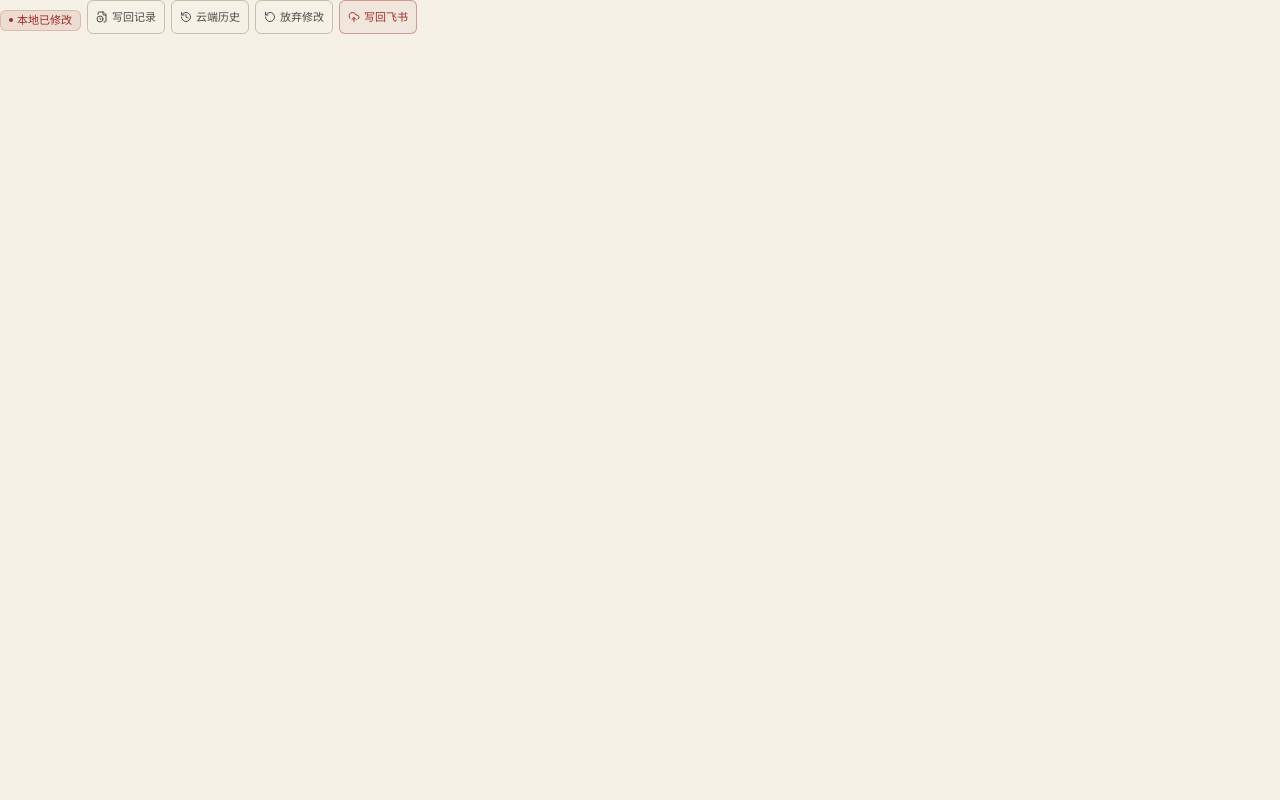
Test: T4b-08 组件挂载点击链：对比云端与本地（真实 fetch 请求 + 回填渲染） › 点击链触发不带 revisionId 的 history-content 请求，弹窗回填云端/本地两侧行级差异
This screenshot has width=1280, height=800.
# 点击「写回飞书」→ 真实 POST push/preview → 计划 blocked（锚点不可读）
Click the button "写回飞书".
click(378, 17)  # box [339,0,417,34]
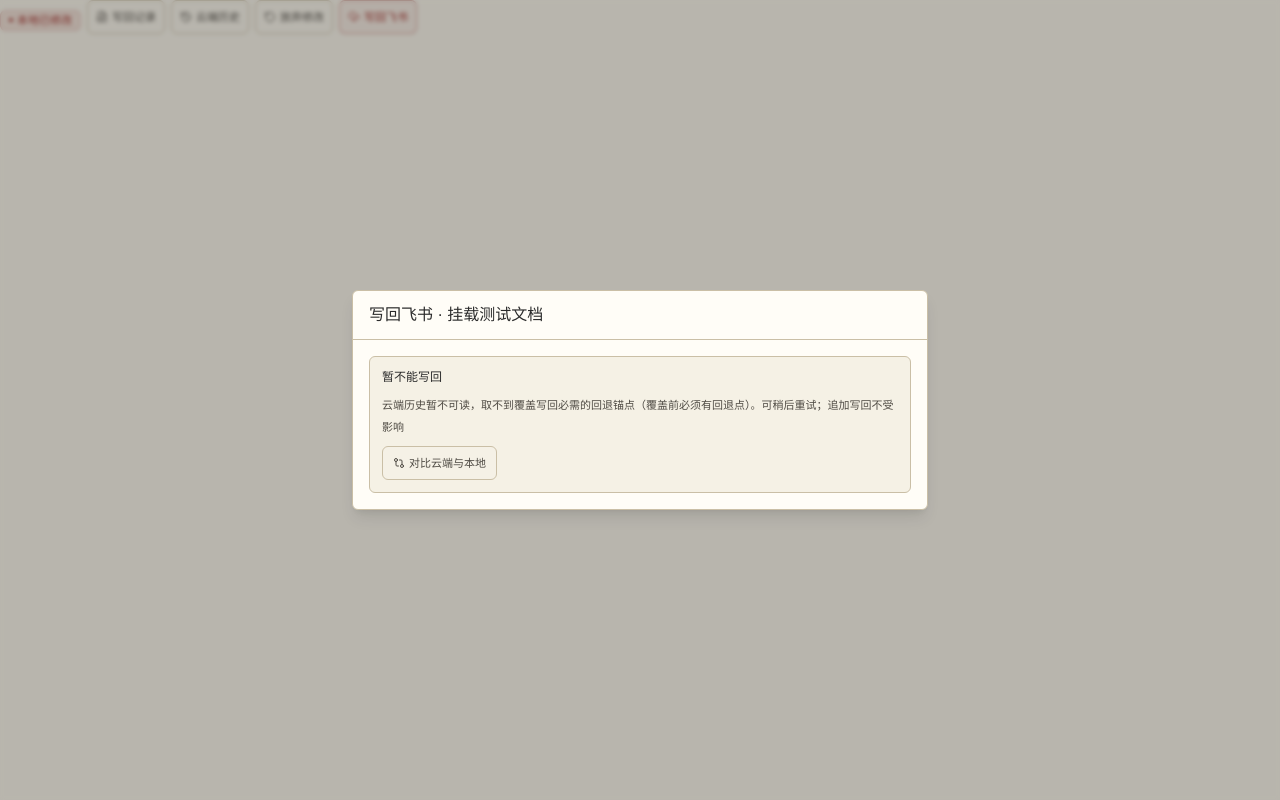
Click the button "对比云端与本地".
click(440, 463)  # box [382,446,497,480]
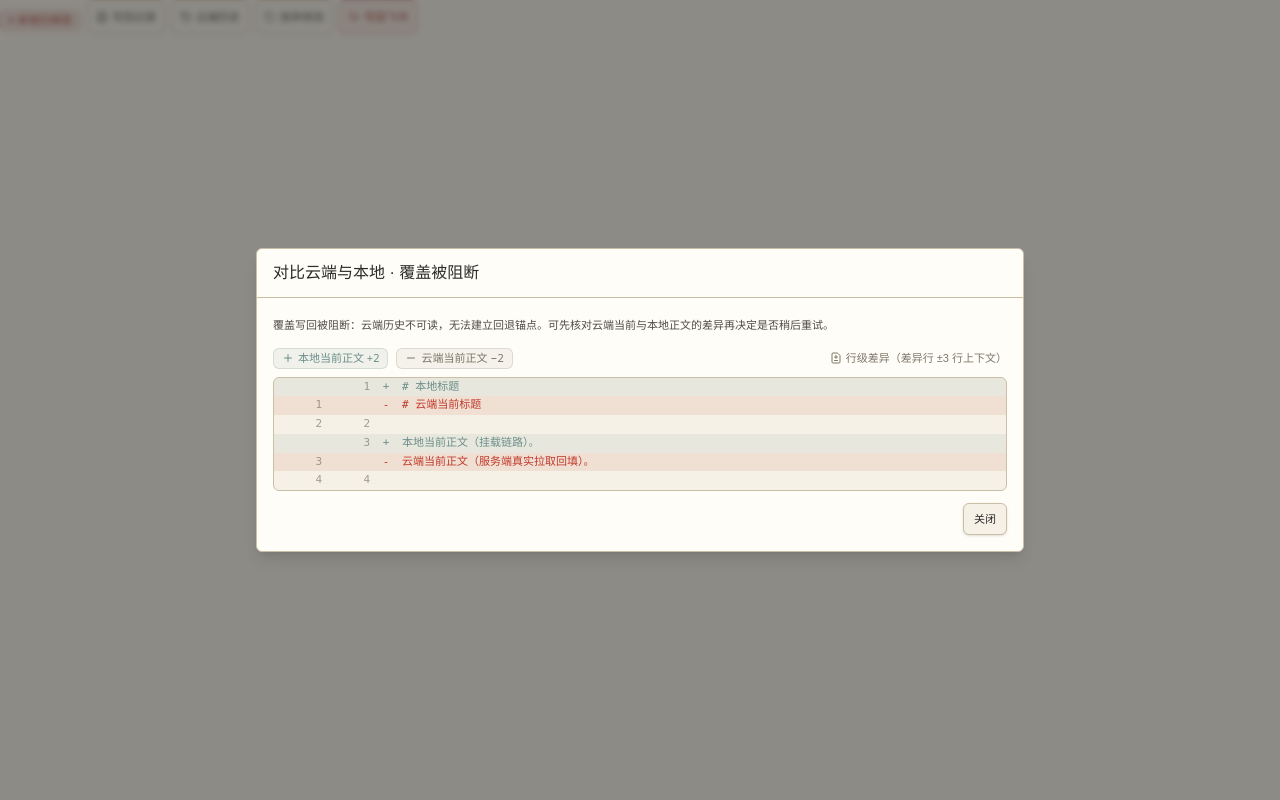
Check: the text "云端当前正文" is shown, box [422,350,488,365]
Check: the text "本地当前正文" is shown, box [298,350,364,365]
Check: the text "# 云端当前标题" is shown, box [402,398,481,412]
